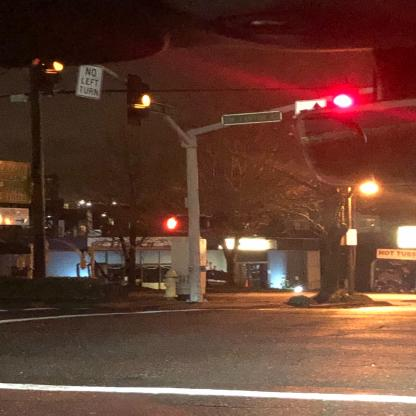Don-t Walk: (164, 217, 180, 231)
